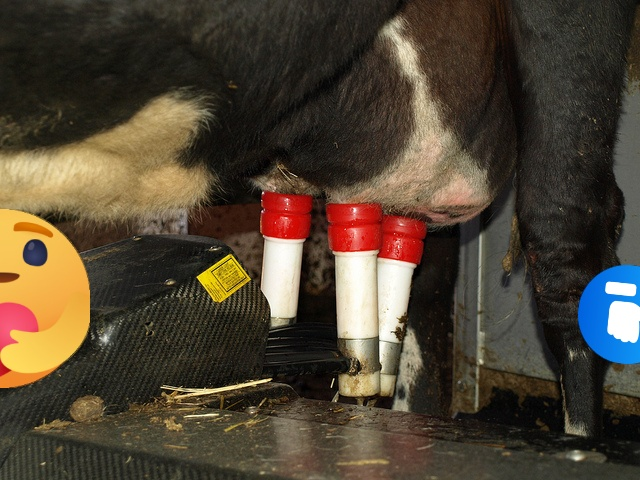care: (0, 209, 90, 388)
like: (578, 265, 640, 364)
